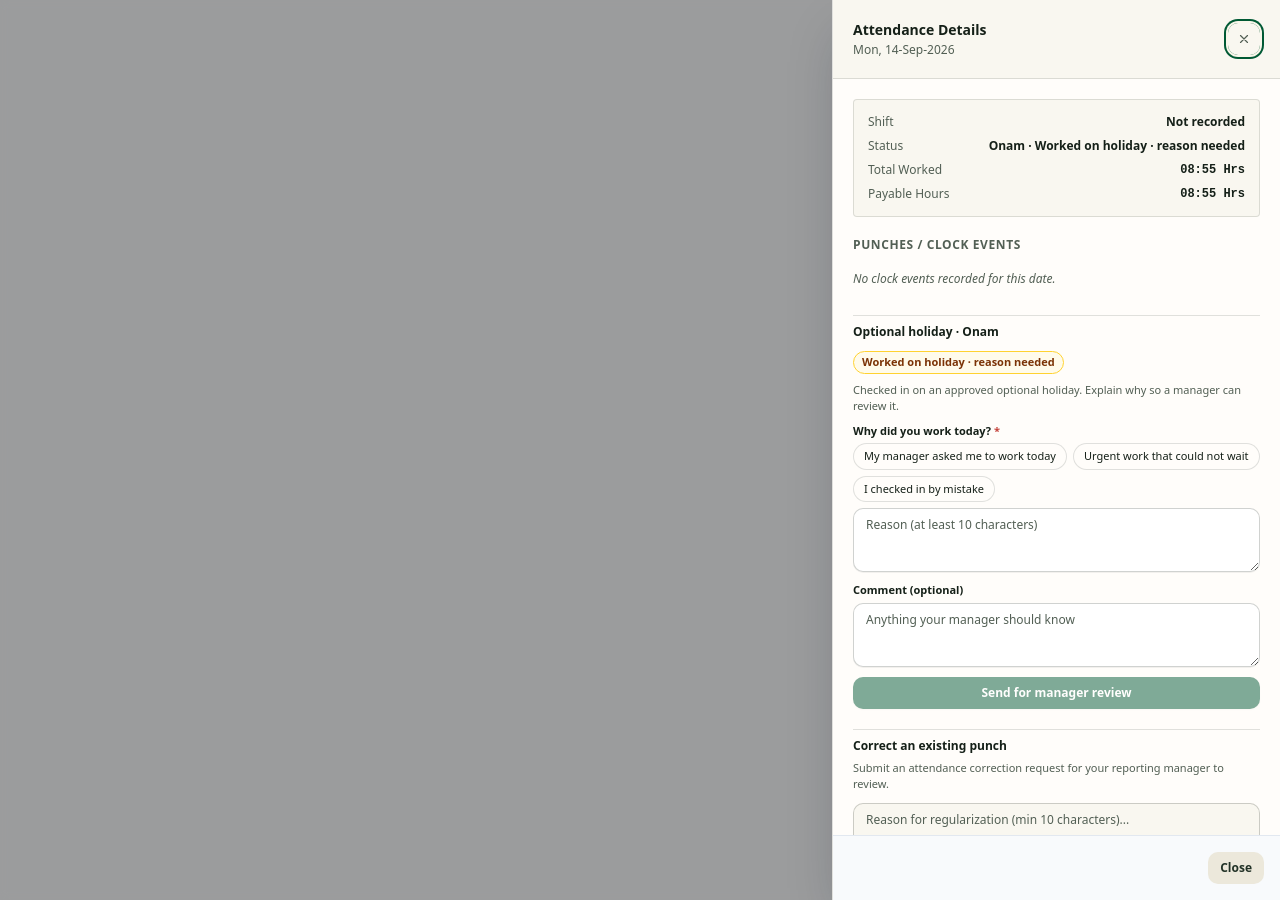
Test: the employee’s view of the day › sends the reason and comment, and says so only after the server accepted it
Step 1. Click the button "My manager asked me to work today" → coordinates (960, 456), box [853, 443, 1067, 470]
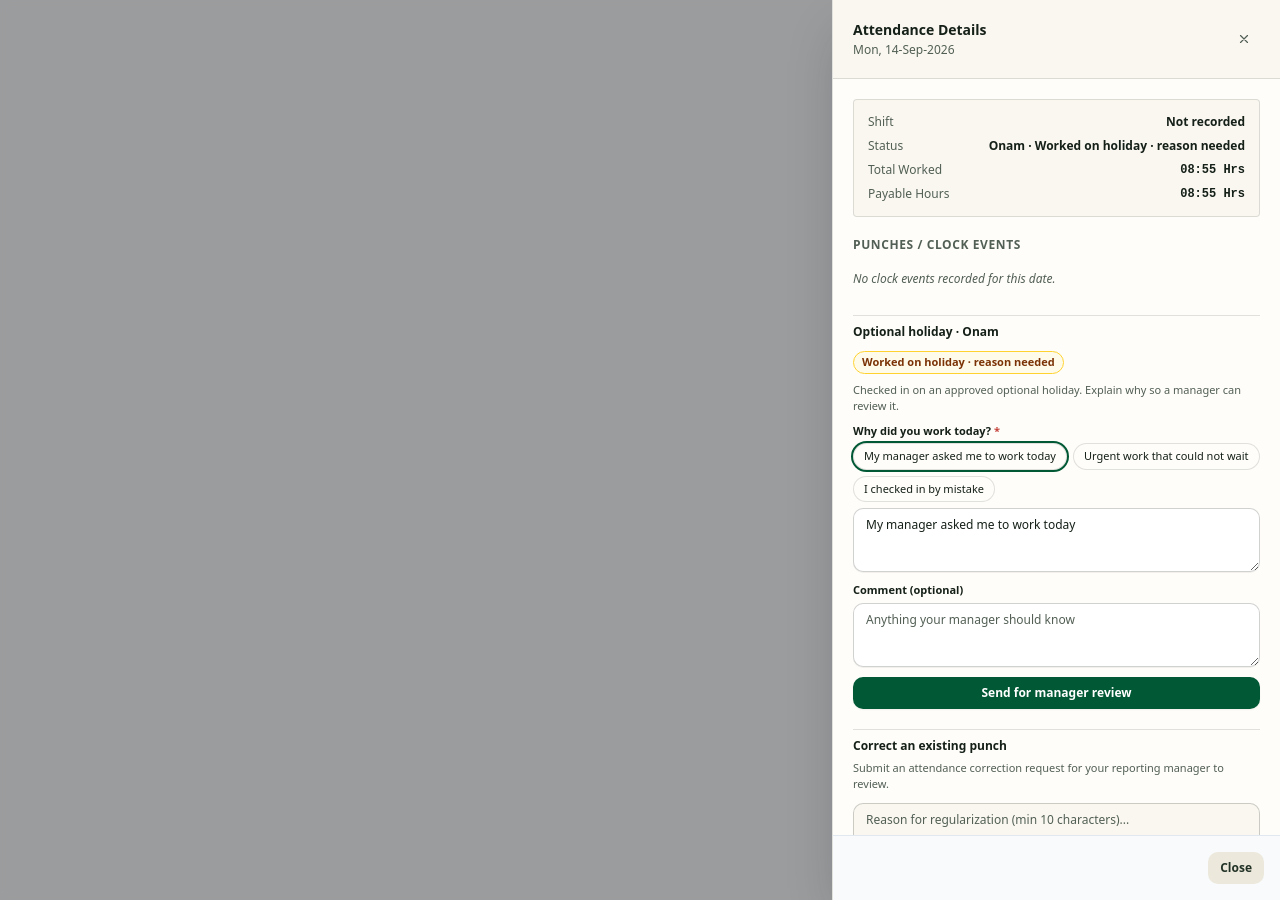
Step 2. Type "Release night" into the text box labelled "Comment (optional)" → coordinates (1056, 634), box [853, 602, 1260, 666]
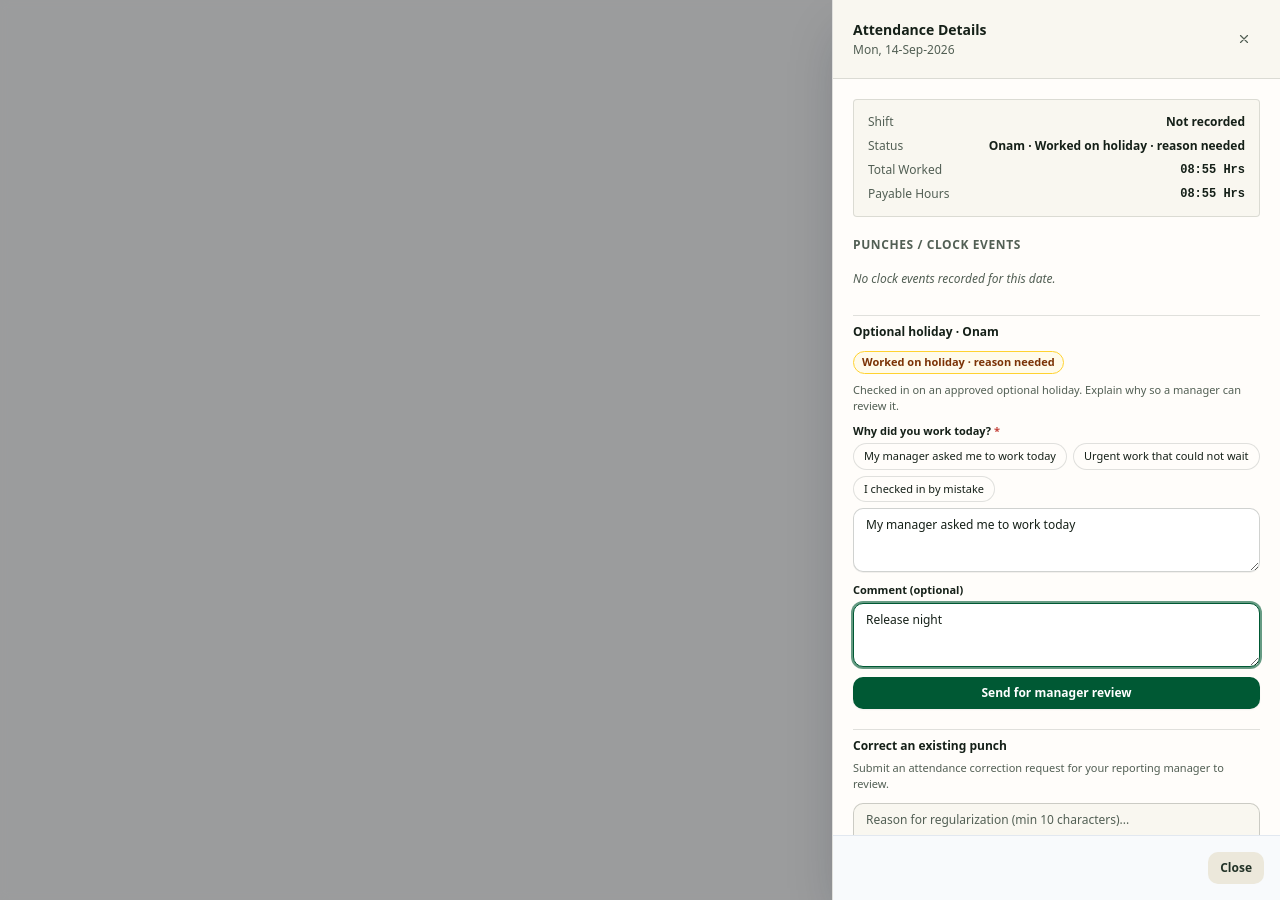
Step 3. Click the button "Send for manager review" → coordinates (1056, 692), box [853, 676, 1260, 708]
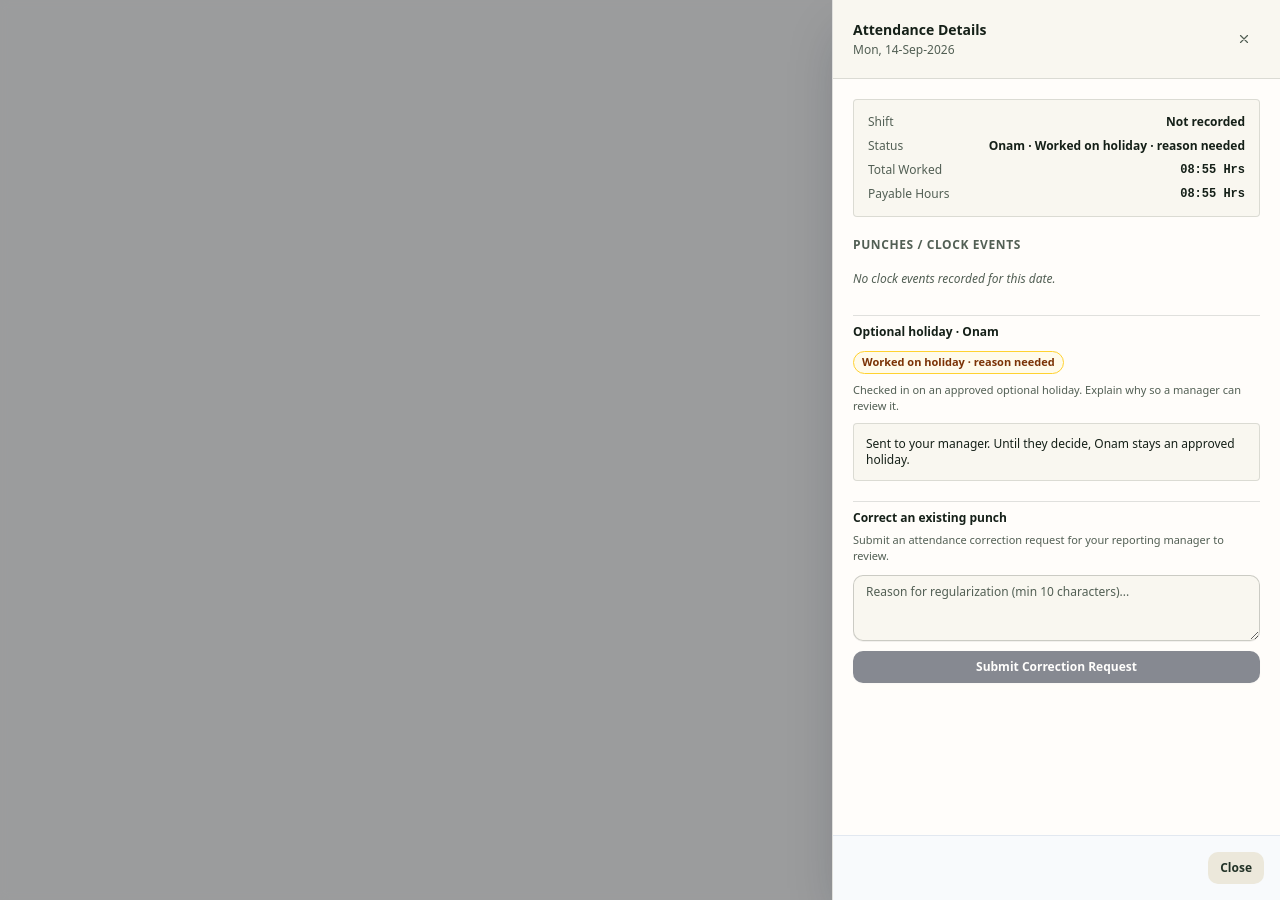
Check: the text "Sent to your manager" is shown, box [866, 434, 1094, 452]
